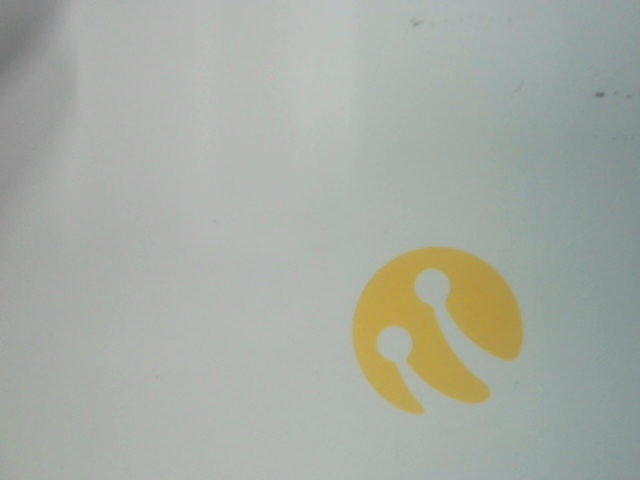AV_H3600Yellow: (329, 244, 555, 424)
